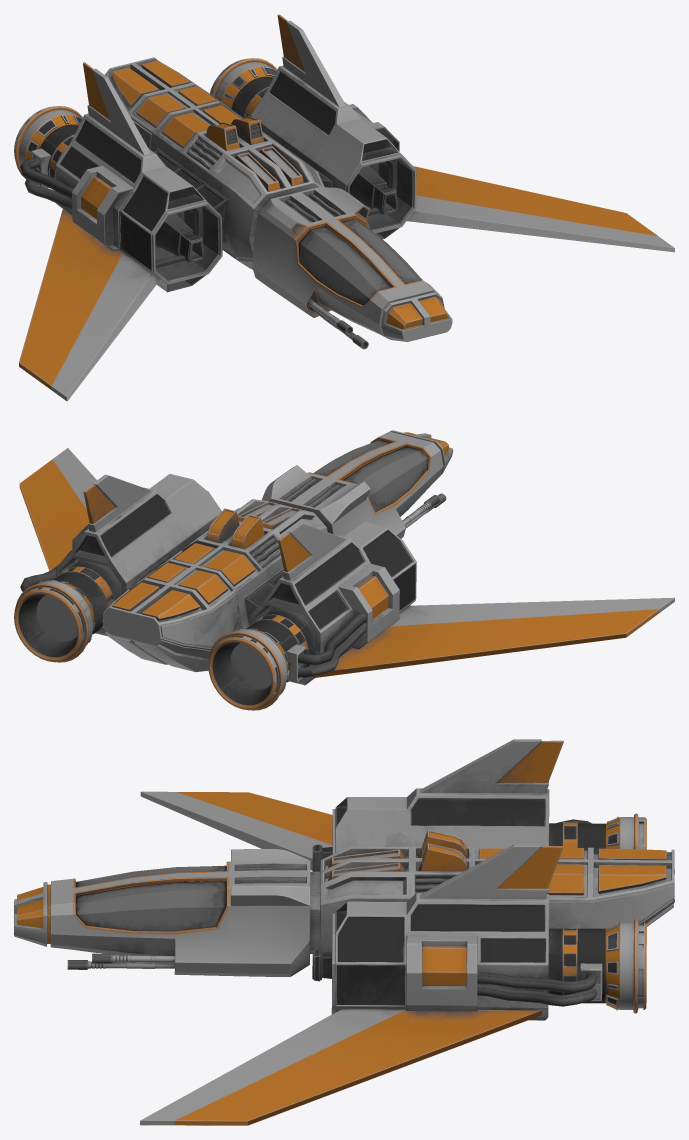
Rendered from StarShip2.obj.
3 views of the same model, one above another, from view 1: azimuth 30°, elevation 25°; view 2: azimuth 150°, elevation 25°; view 3: azimuth 270°, elevation 25° (orthographic). The views are drawn at different scales.
Parts seen in each view (by area): view 1: Starship; view 2: Starship; view 3: Starship.
Boxes of the visible parts, x1,y1,x2,y2 form: Starship: (14,14,674,401); Starship: (14,430,674,710); Starship: (14,739,674,1125).
Size of the model in its own units: 25.92 by 6.51 by 21.89.
